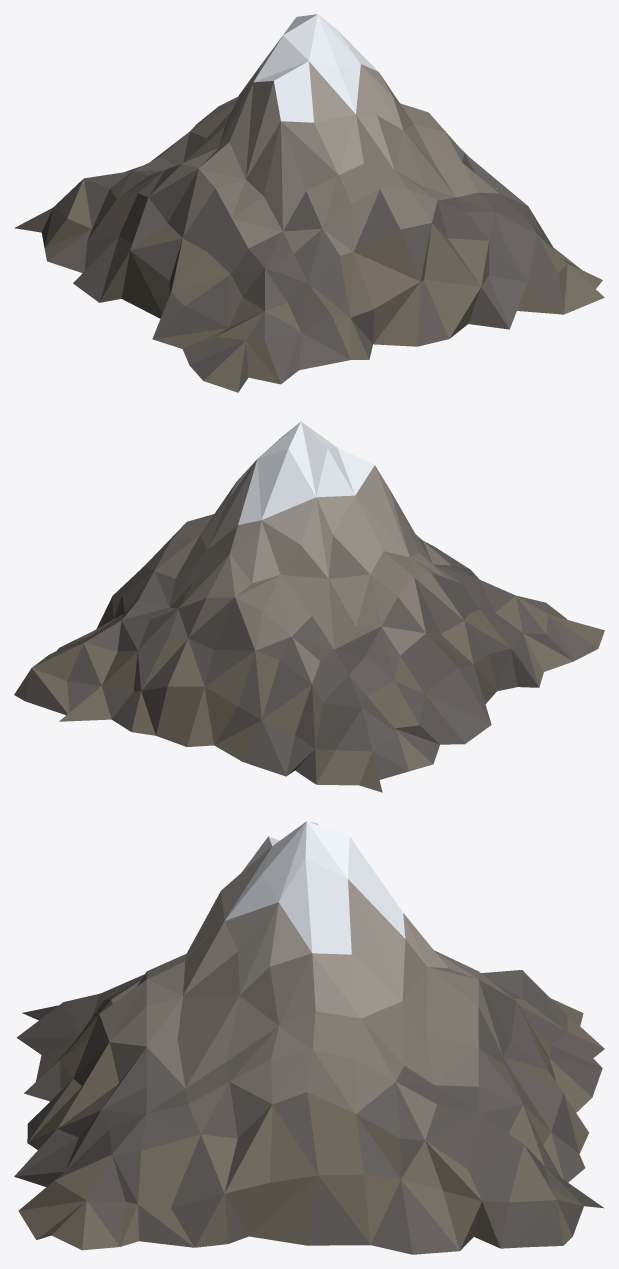
Rendered from mountain_a.obj.
3 views of the same model, one above another, from view 1: azimuth 30°, elevation 25°; view 2: azimuth 150°, elevation 25°; view 3: azimuth 270°, elevation 25° (orthographic). The views are drawn at different scales.
Bounding box in the file's own units: 7.14 × 4.12 × 7.12.
